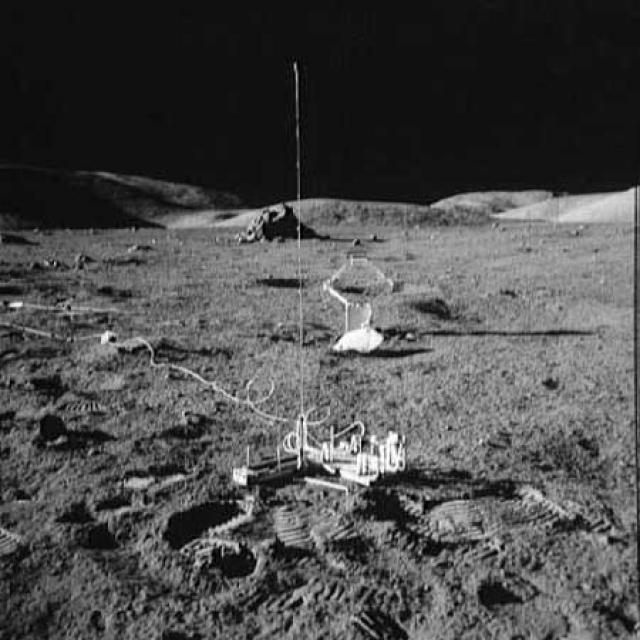artifact: (222, 402, 417, 501), (286, 54, 318, 396), (320, 250, 406, 360)
crater: (423, 289, 613, 331)
rock: (241, 200, 321, 252)
